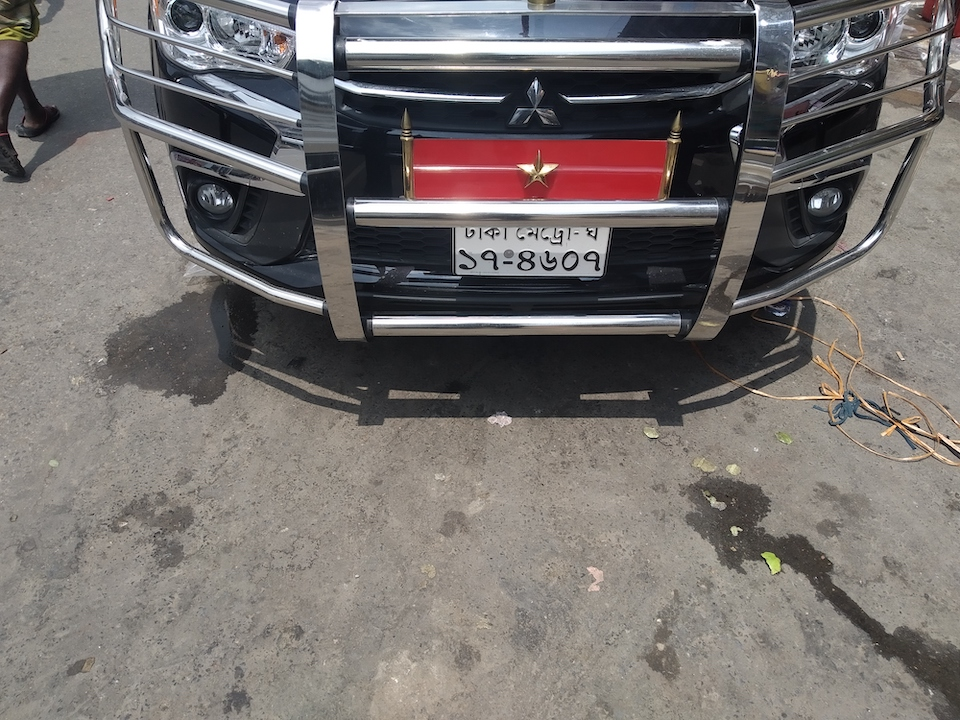registration_plate: (452, 226, 613, 279)
